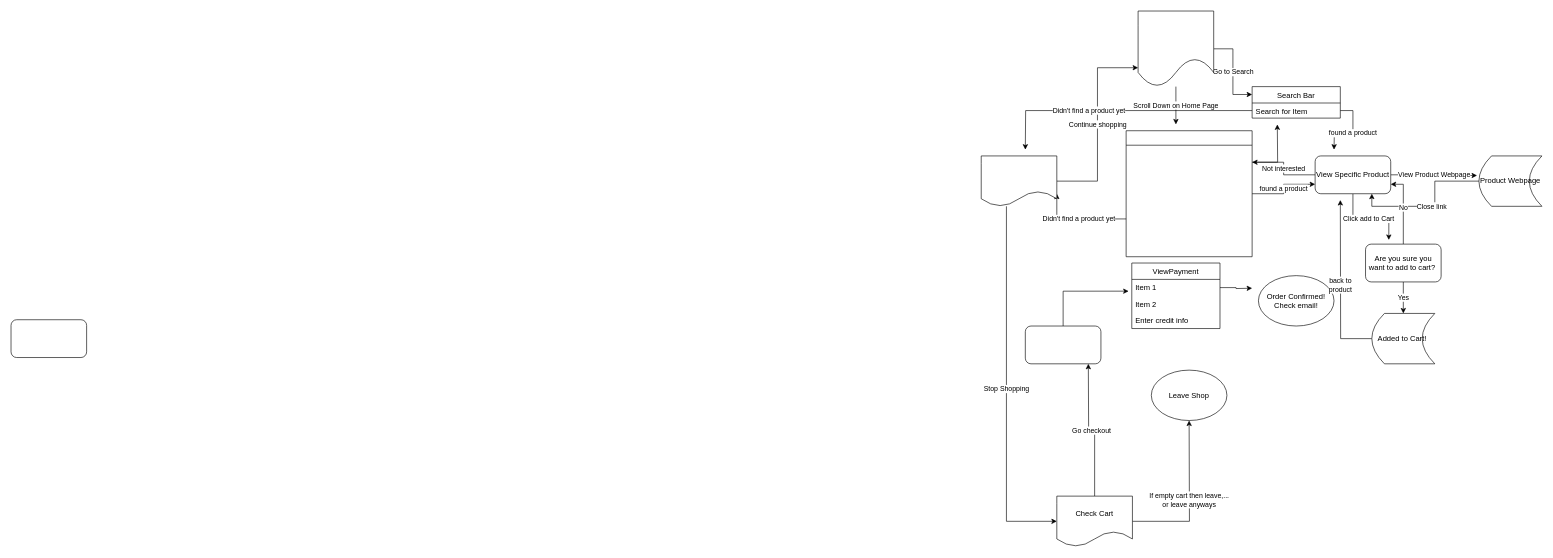
Some shapes in this 1553 by 558 pixel diagram are drawn without their labels. Here are the shapes that lost their labels. From the top down, the centre of each, then its label:
pixel 1175 48: Welcome to Website! Home Page or Search?
pixel 1019 180: Keep Shopping?
pixel 1188 193: Home Page Products
pixel 1063 344: View Cart Screen
